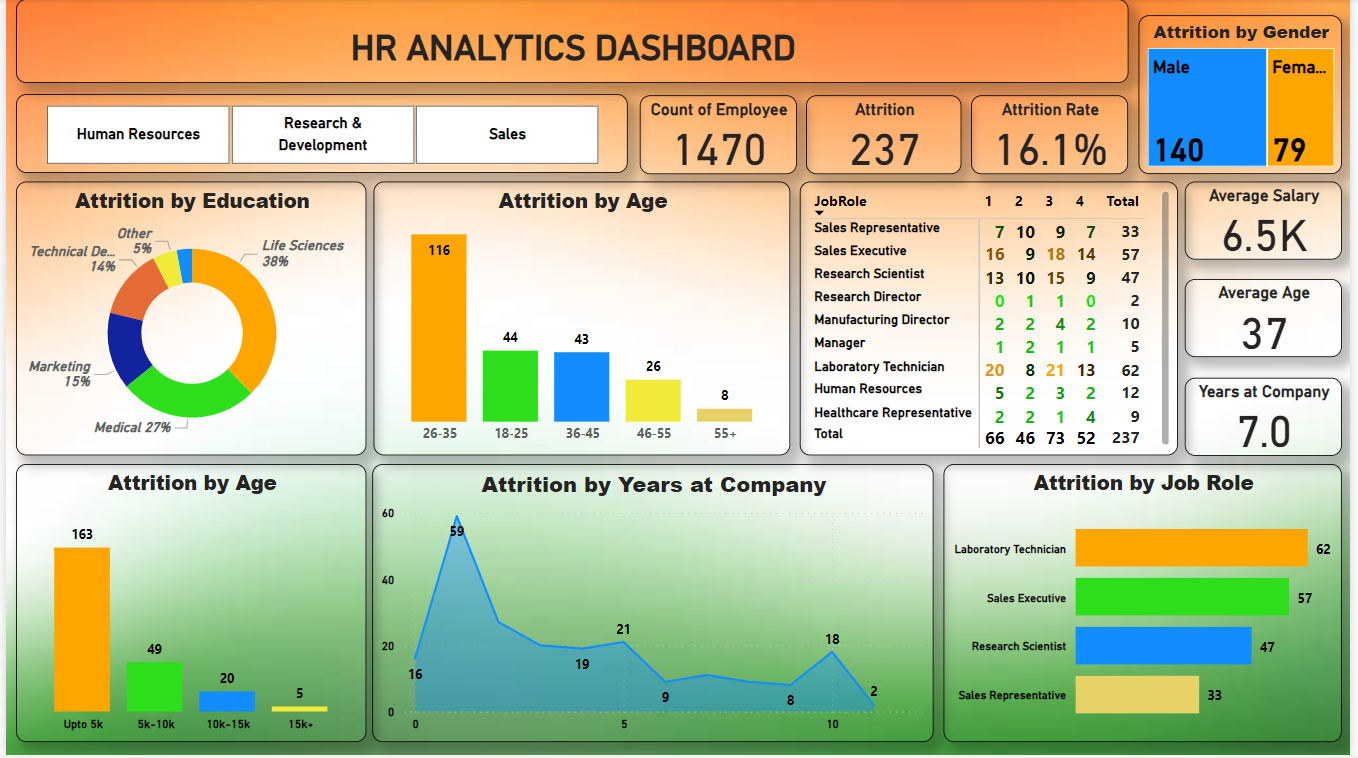

Layout of this report page (visuals, bound fields, positions):
{"tool":"powerbi","page":{"name":"Page 1","canvas":[1280,720],"ordinal":0},"visuals":[{"type":"card","title":"Count of Employee","fields":{"Values":["CountNonNull(HR_Analytics.EmpID)"]},"box":[603.2,91.1,149.8,75.6],"z":0},{"type":"card","title":"Attrition","fields":{"Values":["Sum(HR_Analytics.AttritionCount)"]},"box":[761.2,91.1,148.4,75.6],"z":1000},{"type":"card","title":"Attrition Rate","fields":{"Values":["HR_Analytics.AttritionRate"]},"box":[919.2,91.1,149.8,75.6],"z":2000},{"type":"card","title":"Average Age","fields":{"Values":["Avg(HR_Analytics.Age)"]},"box":[1122.5,266.9,149.8,74.2],"z":3000},{"type":"card","title":"Average Salary","fields":{"Values":["Avg(HR_Analytics.MonthlyIncome)"]},"box":[1122.5,173.5,149.8,74.2],"z":4000},{"type":"card","title":"Years at Company","fields":{"Values":["Avg(HR_Analytics.YearsAtCompany)"]},"box":[1122.5,360.4,149.8,74.2],"z":5000},{"type":"donutChart","title":"Attrition by Education","fields":{"Category":["HR_Analytics.EducationField"],"Y":["Sum(HR_Analytics.AttritionCount)"]},"box":[10,173.5,333.9,261.1],"z":6000},{"type":"columnChart","title":"Attrition by Age","fields":{"Category":["HR_Analytics.AgeGroup"],"Y":["Sum(HR_Analytics.AttritionCount)"]},"box":[349.4,173.5,397.1,261.1],"z":7000},{"type":"pivotTable","fields":{"Rows":["HR_Analytics.JobRole"],"Columns":["HR_Analytics.JobSatisfaction"],"Values":["Sum(HR_Analytics.AttritionCount)"]},"box":[756.1,173.5,360,261.1],"z":8000},{"type":"columnChart","title":"Attrition by Age","fields":{"Category":["HR_Analytics.SalarySlab"],"Y":["Sum(HR_Analytics.AttritionCount)"]},"box":[9.6,442.8,333.9,265.2],"z":9000},{"type":"clusteredBarChart","title":"Attrition by Job Role","fields":{"Category":["HR_Analytics.JobRole"],"Y":["Sum(HR_Analytics.AttritionCount)"]},"box":[893.1,442.8,379.2,265.2],"z":10000},{"type":"areaChart","title":"Attrition by Years at Company","fields":{"Y":["Sum(HR_Analytics.AttritionCount)"],"Category":["HR_Analytics.YearsAtCompany"]},"box":[349,442.8,534.5,265.2],"z":11000},{"type":"treemap","title":"Attrition by Gender","fields":{"Group":["HR_Analytics.Gender"],"Values":["Sum(HR_Analytics.AttritionCount)"]},"box":[1078.6,15.1,193.7,151.1],"z":12000},{"type":"slicer","fields":{"Values":["HR_Analytics.Department"]},"box":[9.6,90.7,582.6,75.6],"z":13000},{"type":"textbox","box":[9.6,0,1059.3,79.7],"z":14000}]}

Visuals, with their boxes in screenshot pixels (x1, y1, x2, y2), scaled from the page's 1280x720 canvas onto the 1358x758 screenshot:
"Count of Employee" card: 640/96/799/175
"Attrition" card: 808/96/965/175
"Attrition Rate" card: 975/96/1134/175
"Average Age" card: 1191/281/1350/359
"Average Salary" card: 1191/183/1350/261
"Years at Company" card: 1191/379/1350/458
"Attrition by Education" donutChart: 11/183/365/458
"Attrition by Age" columnChart: 371/183/792/458
pivotTable - HR_Analytics.JobRole x HR_Analytics.JobSatisfaction: 802/183/1184/458
"Attrition by Age" columnChart: 10/466/364/745
"Attrition by Job Role" clusteredBarChart: 948/466/1350/745
"Attrition by Years at Company" areaChart: 370/466/937/745
"Attrition by Gender" treemap: 1144/16/1350/175
slicer - HR_Analytics.Department: 10/95/628/175
textbox: 10/0/1134/84
